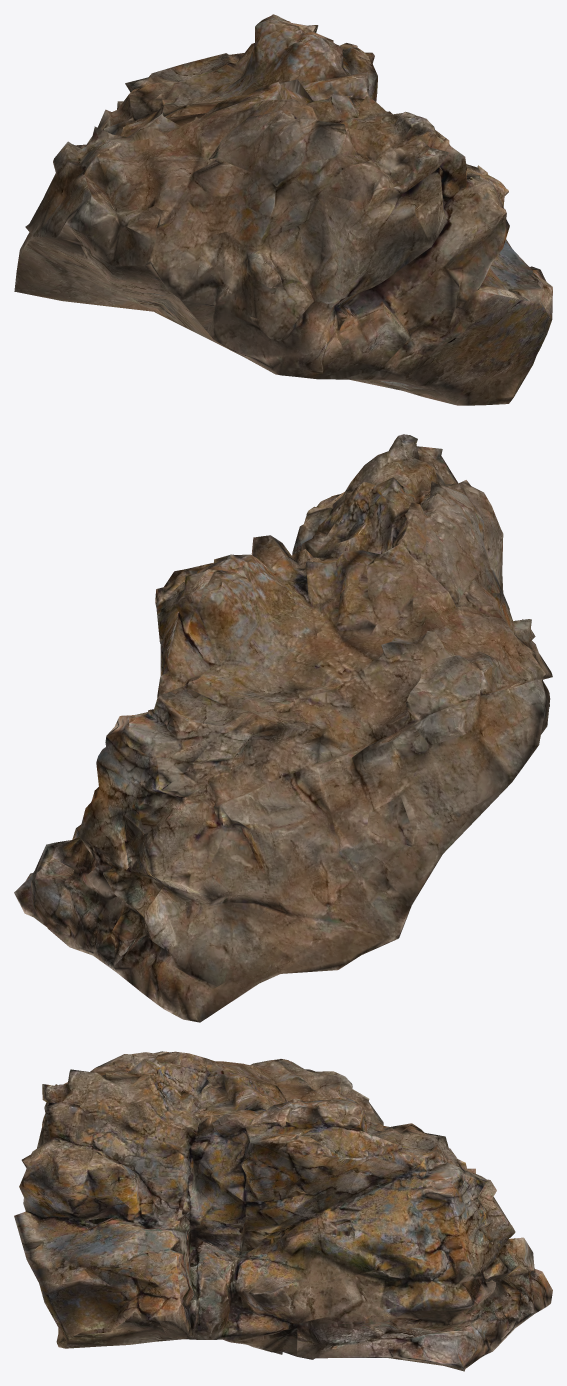
File: assets__ph__boulder_01.glb
3 views of the same model, one above another, from view 1: azimuth 30°, elevation 25°; view 2: azimuth 150°, elevation 25°; view 3: azimuth 270°, elevation 25° (orthographic). The views are drawn at different scales.
Parts seen in each view (by area): view 1: boulder_01; view 2: boulder_01; view 3: boulder_01.
Boxes of the visible parts, left/top/right/bottom form: boulder_01: left=14, top=14, right=552, bottom=405; boulder_01: left=14, top=434, right=552, bottom=1022; boulder_01: left=14, top=1051, right=552, bottom=1371.
Size of the model in its own units: 1.26 by 0.9967 by 1.82.
1 material, 1 textured.
